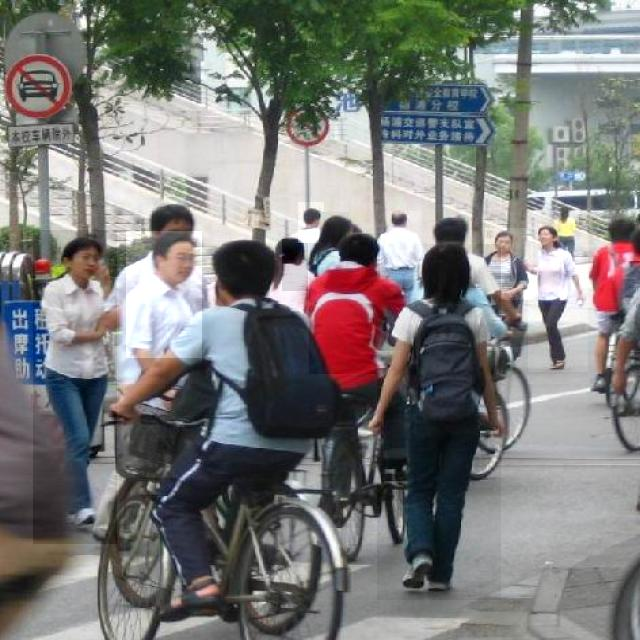with scooter: (377, 244, 501, 600), (33, 230, 117, 544), (309, 233, 390, 374), (126, 231, 202, 358), (528, 224, 588, 372), (586, 218, 638, 308), (485, 228, 533, 300), (380, 211, 422, 279), (282, 240, 308, 292), (320, 212, 350, 256), (298, 202, 324, 243), (555, 205, 581, 240)
